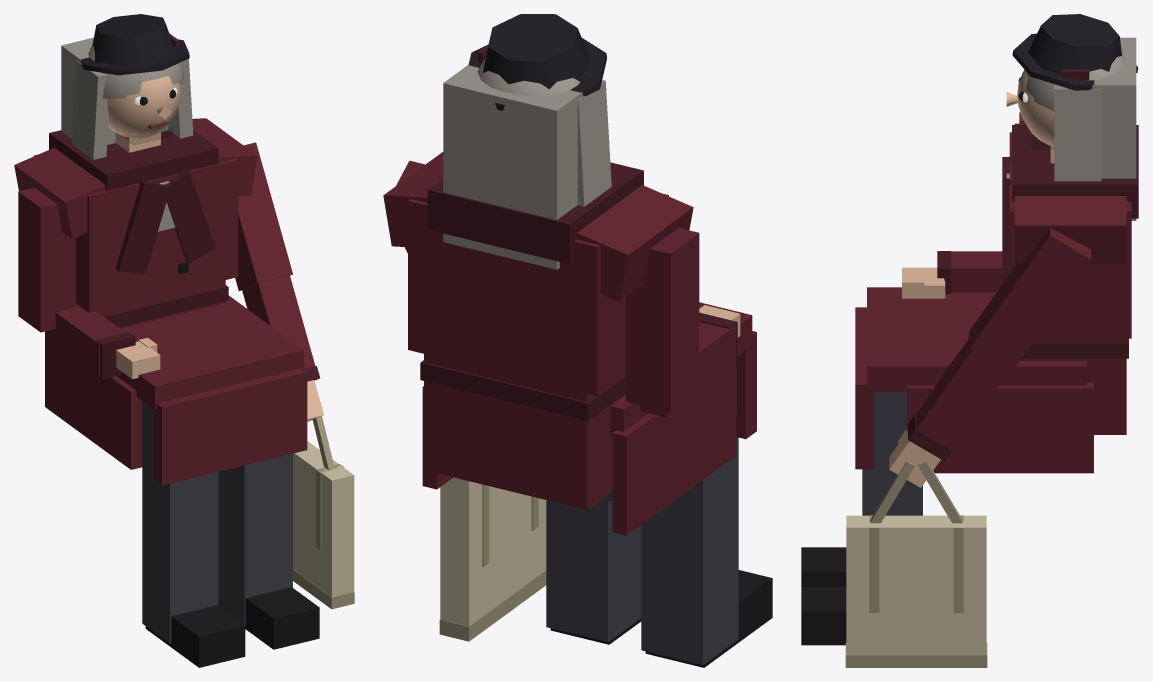
File: passenger_coat.glb
The picture shows the model from 3 angles, left to right: view 1: azimuth 30°, elevation 25°; view 2: azimuth 150°, elevation 25°; view 3: azimuth 270°, elevation 25°; orthographic projection. The views are drawn at different scales.
Parts seen in each view (by area): view 1: passenger_coat, Head, Head_Skin, Body_Skin; view 2: passenger_coat, Head; view 3: passenger_coat, Head, Body_Skin, Head_Skin.
Boxes of the visible parts, box(x1,y1,x2,y2) form: passenger_coat: box(14, 118, 354, 667); Head: box(61, 14, 193, 159); Head_Skin: box(107, 76, 180, 138); Body_Skin: box(115, 131, 323, 421); passenger_coat: box(383, 152, 772, 667); Head: box(443, 14, 611, 269); passenger_coat: box(801, 123, 1138, 667); Head: box(1012, 14, 1138, 220); Body_Skin: box(889, 146, 1054, 487); Head_Skin: box(1006, 69, 1054, 146).
Size of the model in its own units: 0.6095 by 1.38 by 0.72.
